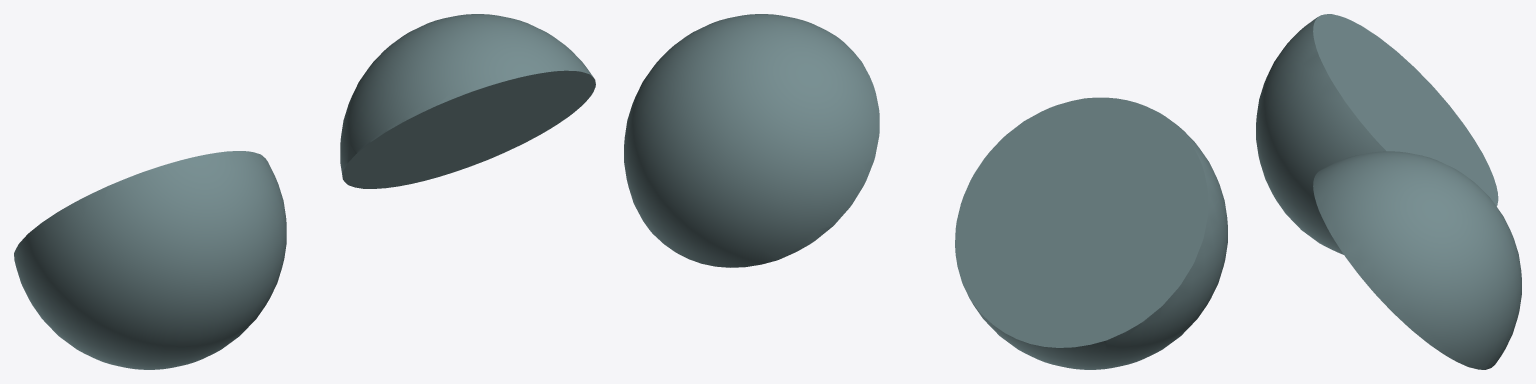
File: edits_split.glb
The picture shows the model from 3 angles, left to right: view 1: azimuth 30°, elevation 25°; view 2: azimuth 150°, elevation 25°; view 3: azimuth 270°, elevation 25°; orthographic projection. The views are drawn at different scales.
Parts seen in each view (by area): view 1: ball; view 2: ball; view 3: ball.
Boxes of the visible parts, <box> form: ball: <box>14,14,595,369</box>; ball: <box>624,14,1227,369</box>; ball: <box>1256,14,1521,369</box>.
Bounding box in the file's own units: 0.0945 × 0.04 × 0.0399.
